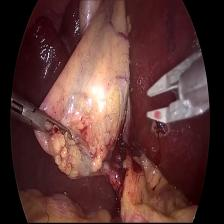Clipper: (135, 48, 210, 125)
Grasper: (11, 82, 75, 153)
